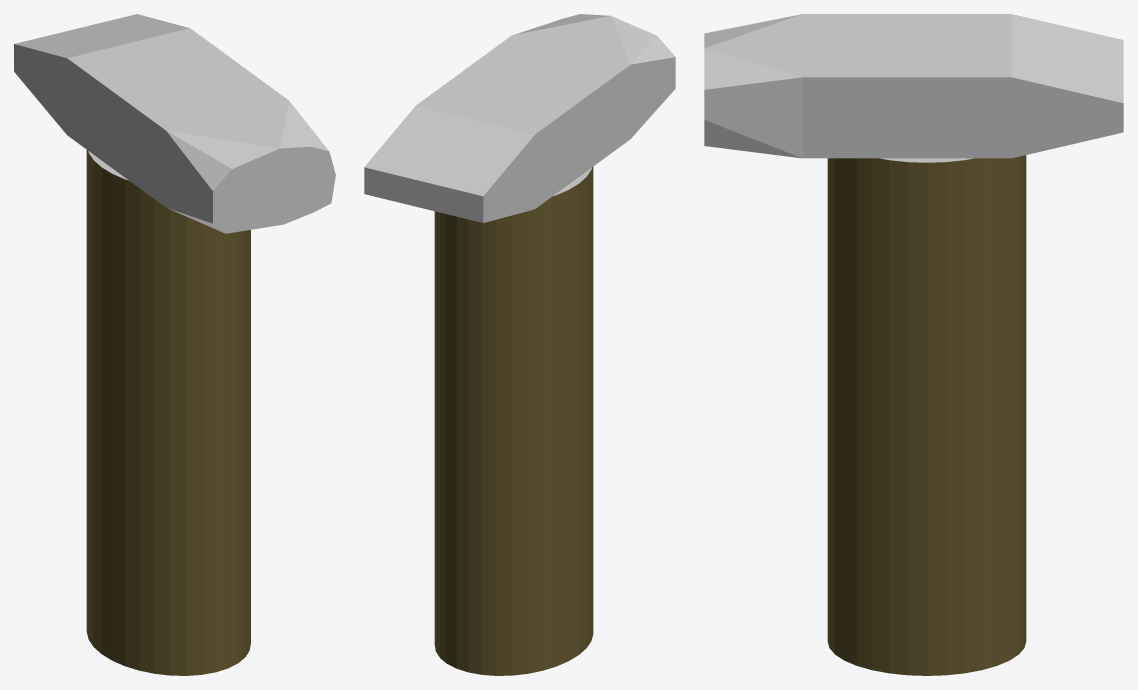
The model's file is hammer.fbx.
3 renders of one model, left to right at view 1: azimuth 30°, elevation 25°; view 2: azimuth 150°, elevation 25°; view 3: azimuth 270°, elevation 25°, orthographic. The views are drawn at different scales.
Parts seen in each view (by area): view 1: Cube; view 2: Cube; view 3: Cube.
Part boxes in pixels (<box>): Cube: <box>14,14,335,675</box>; Cube: <box>364,14,675,675</box>; Cube: <box>704,14,1123,675</box>.
Bounding box in the file's own units: 119 × 477 × 304.
